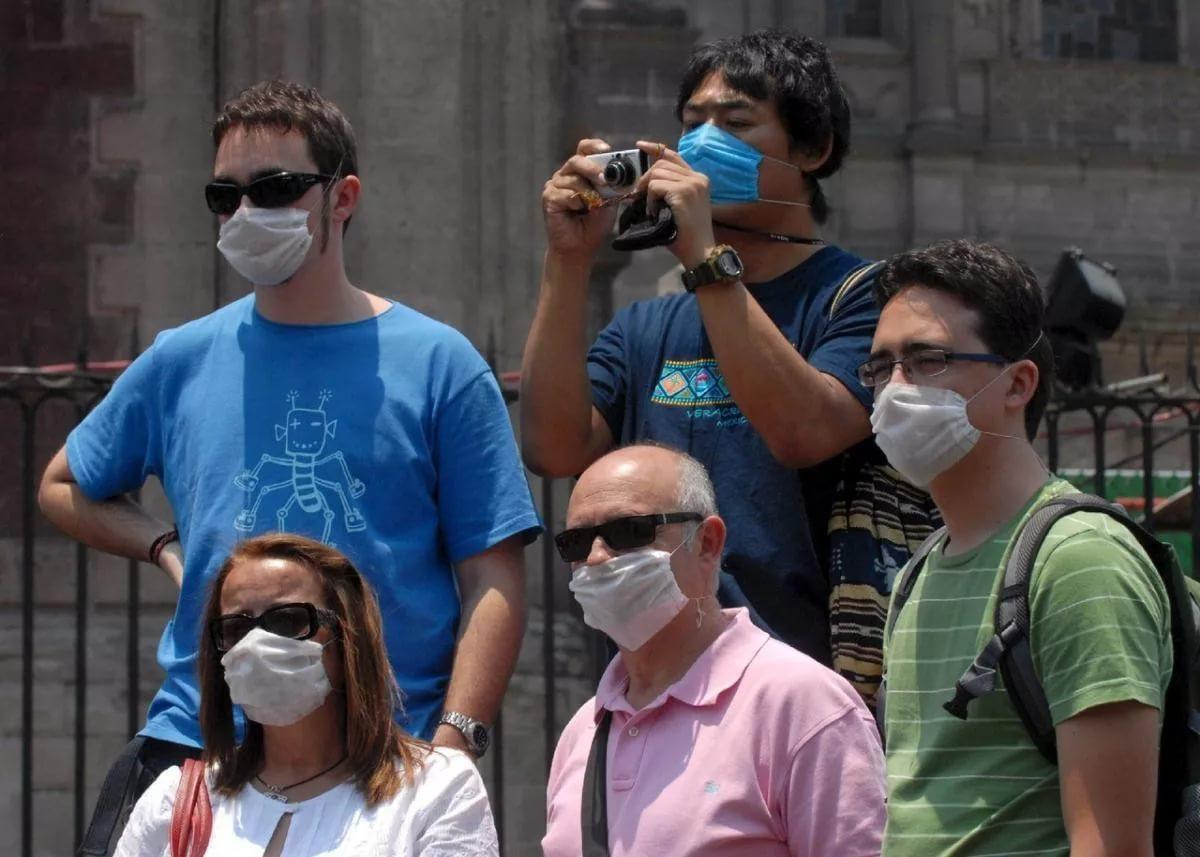mask: (862, 328, 985, 489), (210, 120, 328, 285), (211, 580, 334, 721), (673, 66, 788, 204)
poor: (562, 511, 689, 651)
